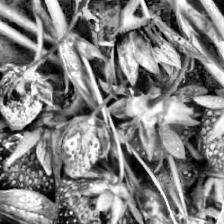Gray Mold: (0, 64, 52, 130)
